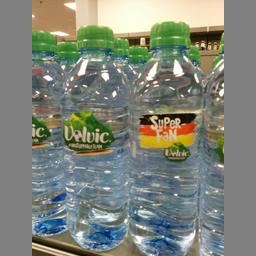water: (126, 20, 204, 254), (57, 24, 130, 250), (31, 30, 66, 236)
